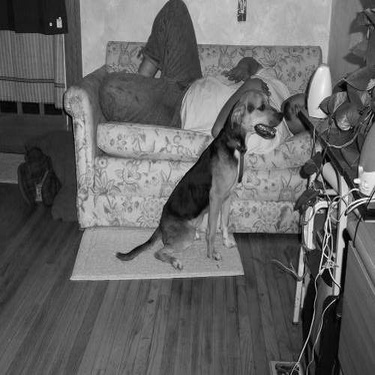dog: (107, 82, 286, 276)
